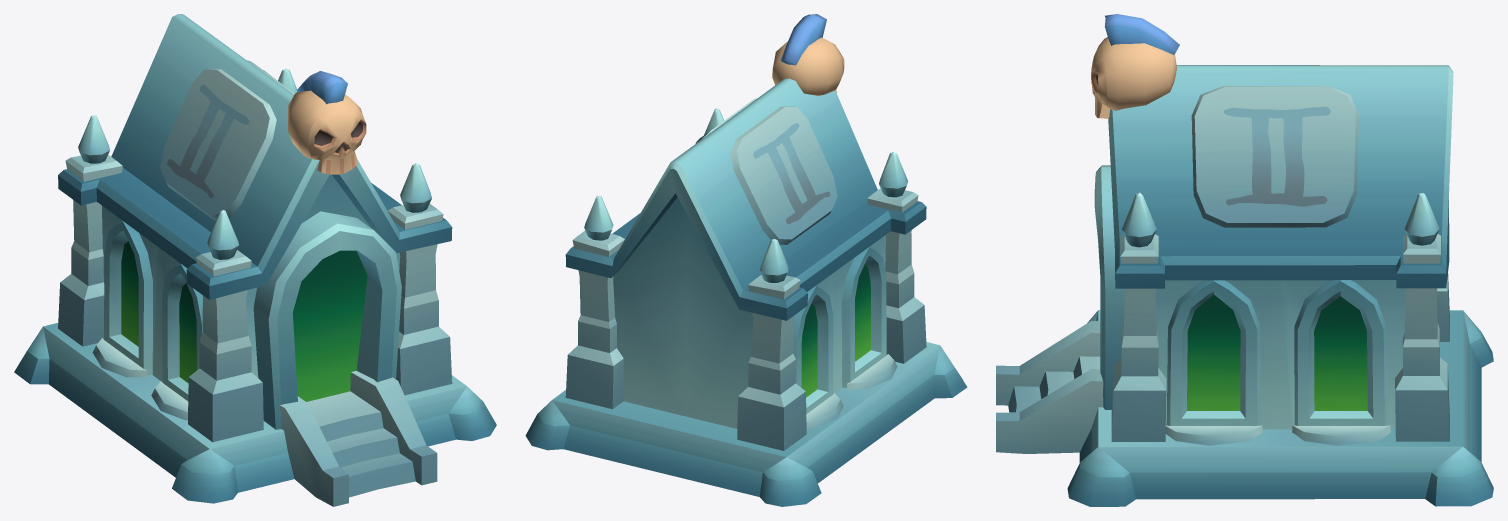
Rendered from env_Skeletons_Crypt_Spawn_lvl_2.fbx.
3 renders of one model, left to right at view 1: azimuth 30°, elevation 25°; view 2: azimuth 150°, elevation 25°; view 3: azimuth 270°, elevation 25°, orthographic. The views are drawn at different scales.
Parts seen in each view (by area): view 1: Skeleton_spawn_Crypt_lvl_2, Skeleton_2, Crypt_number_2; view 2: Skeleton_spawn_Crypt_lvl_2, Skeleton_2, Crypt_number_2; view 3: Skeleton_spawn_Crypt_lvl_2, Skeleton_2, Crypt_number_2.
Boxes of the visible parts, x1,y1,x2,y2 form: Skeleton_spawn_Crypt_lvl_2: [14, 14, 496, 506]; Skeleton_2: [287, 71, 366, 174]; Crypt_number_2: [167, 70, 269, 198]; Skeleton_spawn_Crypt_lvl_2: [525, 78, 967, 506]; Skeleton_2: [772, 14, 844, 95]; Crypt_number_2: [695, 123, 830, 224]; Skeleton_spawn_Crypt_lvl_2: [996, 65, 1493, 506]; Skeleton_2: [1091, 14, 1179, 118]; Crypt_number_2: [1224, 106, 1330, 206].
Bounding box in the file's own units: 445 × 519 × 569.
2 materials, 2 textured.
